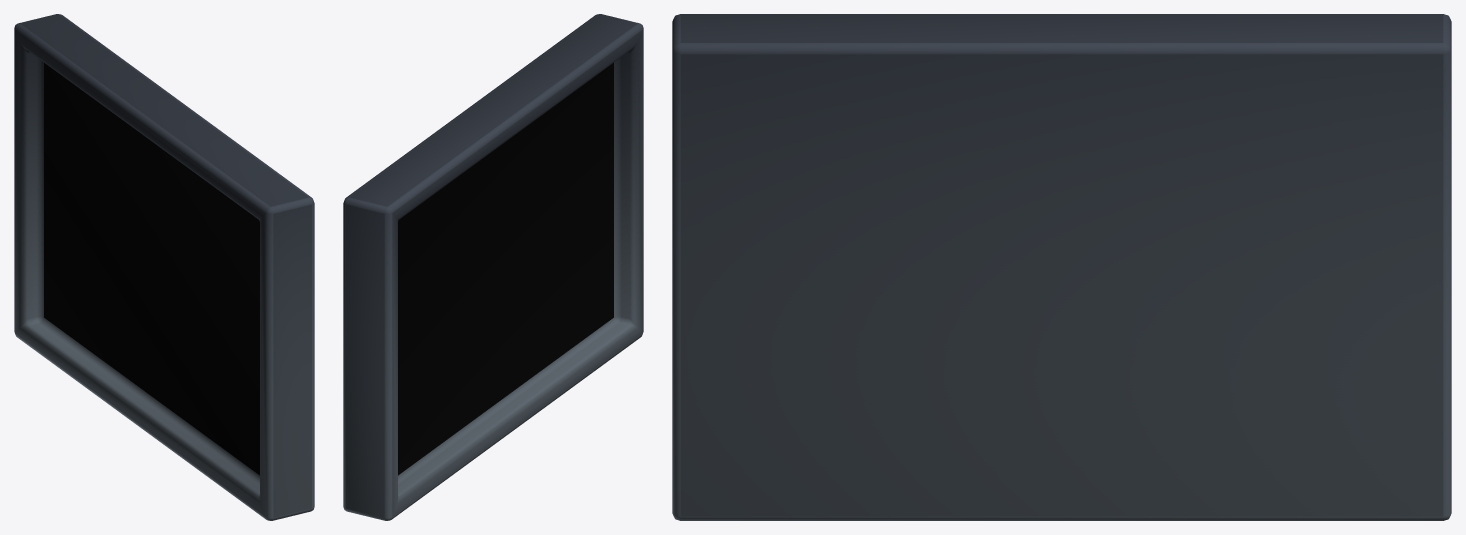
The model's file is monitor-small.fbx.
The picture shows the model from 3 angles, left to right: view 1: azimuth 30°, elevation 25°; view 2: azimuth 150°, elevation 25°; view 3: azimuth 270°, elevation 25°; orthographic projection. The views are drawn at different scales.
Visible parts, largest first — view 1: monitor.002; view 2: monitor.002; view 3: monitor.002.
Boxes of the visible parts, bbox=[...] form: monitor.002: bbox=[14, 14, 314, 520]; monitor.002: bbox=[343, 14, 643, 520]; monitor.002: bbox=[672, 14, 1451, 520].
Size of the model in its own units: 30.27 by 188 by 278.
